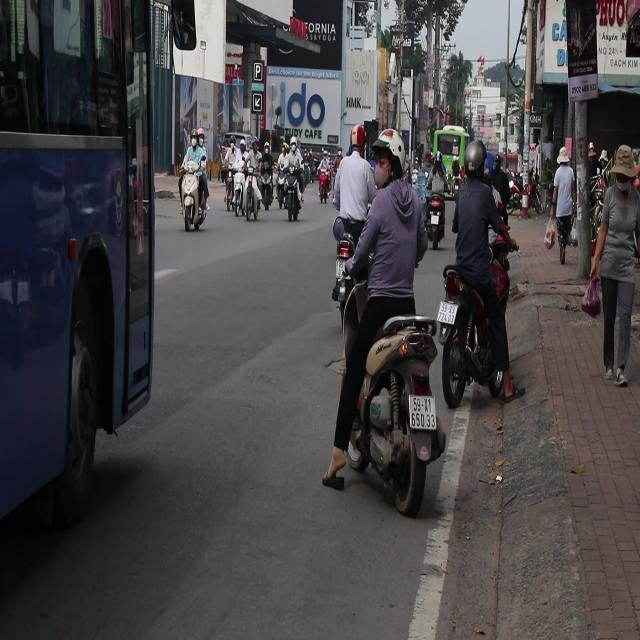bus: (0, 0, 157, 596), (434, 127, 468, 189), (222, 174, 238, 218), (234, 176, 245, 224)
car: (219, 133, 254, 155)
motorbike: (332, 273, 438, 517), (442, 260, 520, 418), (335, 230, 380, 300), (176, 174, 211, 232), (423, 192, 446, 251), (286, 171, 308, 231), (277, 154, 292, 201), (264, 165, 275, 216), (314, 168, 331, 200)
